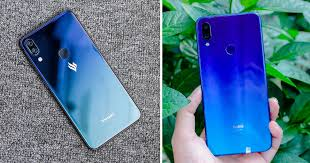vsmart: (18, 5, 140, 151)
